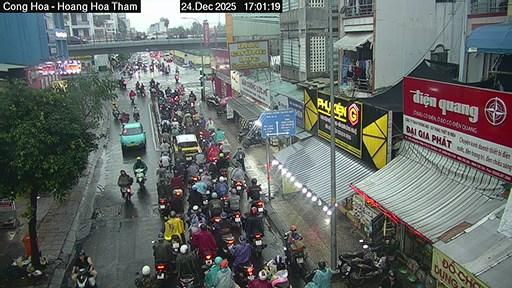motorbike: (336, 238, 384, 275), (348, 252, 384, 286), (284, 244, 307, 279), (234, 261, 252, 286), (74, 268, 96, 286), (250, 233, 265, 257), (243, 133, 265, 147), (134, 167, 144, 189), (156, 261, 167, 280), (170, 234, 179, 255), (231, 210, 240, 230), (204, 251, 214, 269), (236, 129, 249, 142), (157, 198, 166, 216), (250, 198, 262, 211), (179, 277, 194, 287), (205, 95, 217, 106), (231, 180, 241, 193), (188, 175, 198, 188), (121, 187, 130, 199), (218, 167, 226, 176), (282, 232, 288, 242), (112, 108, 118, 117), (133, 112, 138, 121), (120, 80, 125, 89)
